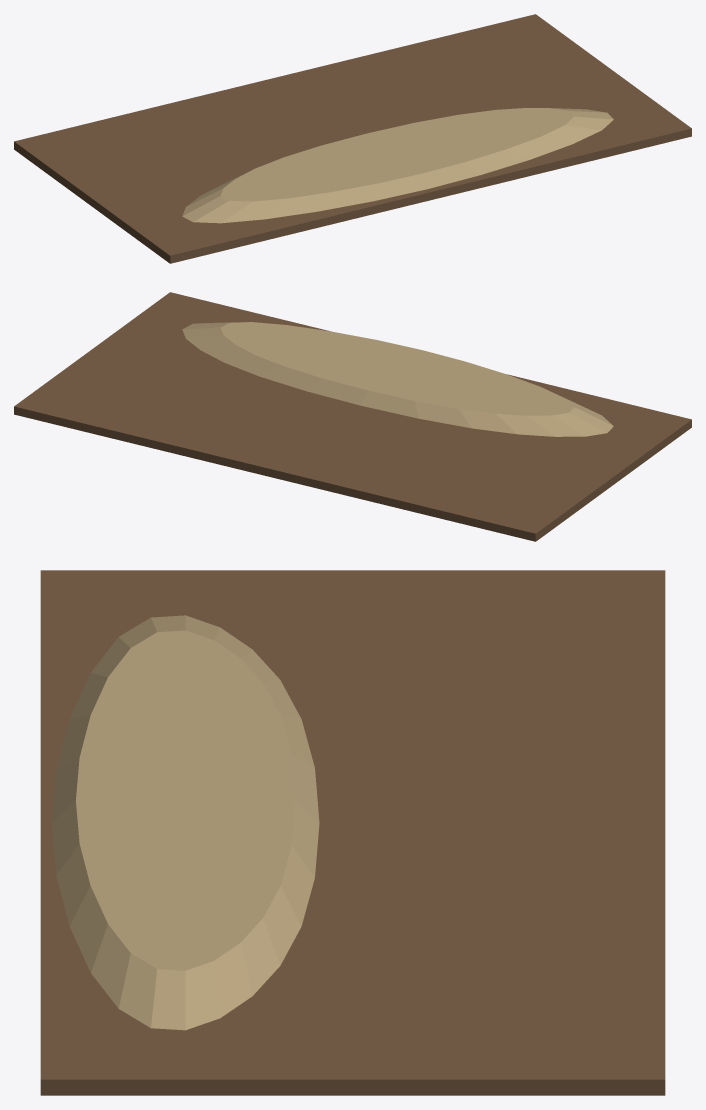
Rendered from station_nessa.glb.
The picture shows the model from 3 angles, top to bottom: view 1: azimuth 30°, elevation 25°; view 2: azimuth 150°, elevation 25°; view 3: azimuth 270°, elevation 25°; orthographic projection. The views are drawn at different scales.
Parts seen in each view (by area): view 1: SupportedKneadingBoard, WorkContactPart; view 2: SupportedKneadingBoard, WorkContactPart; view 3: SupportedKneadingBoard, WorkContactPart.
Boxes of the visible parts, x1=… form: SupportedKneadingBoard: x1=14, y1=14, x2=691, y2=263; WorkContactPart: x1=182, y1=108, x2=613, y2=223; SupportedKneadingBoard: x1=14, y1=292, x2=691, y2=541; WorkContactPart: x1=182, y1=322, x2=613, y2=436; SupportedKneadingBoard: x1=40, y1=570, x2=665, y2=1095; WorkContactPart: x1=51, y1=615, x2=319, y2=1030.
Bounding box in the file's own units: 0.54 × 0.02 × 0.28.
